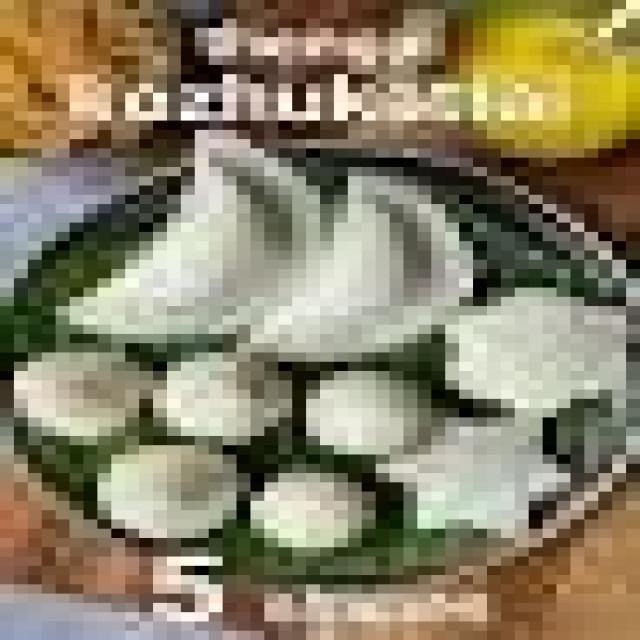poorna kolukattai: (51, 136, 593, 568)
